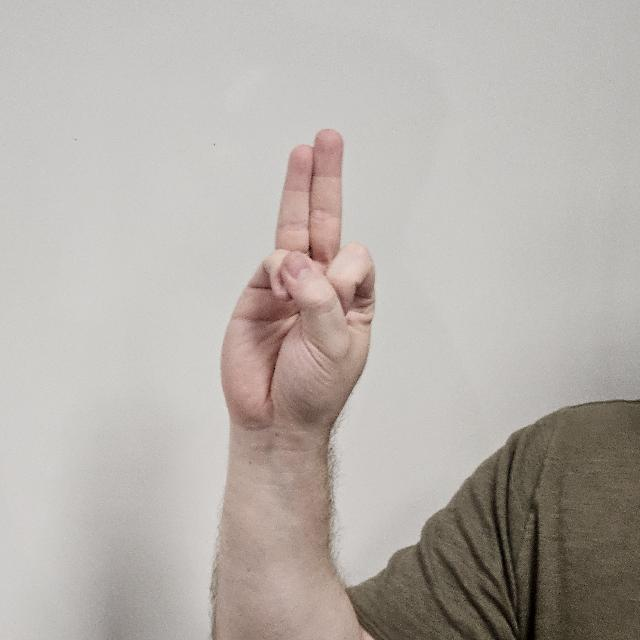R: (218, 126, 378, 448)
